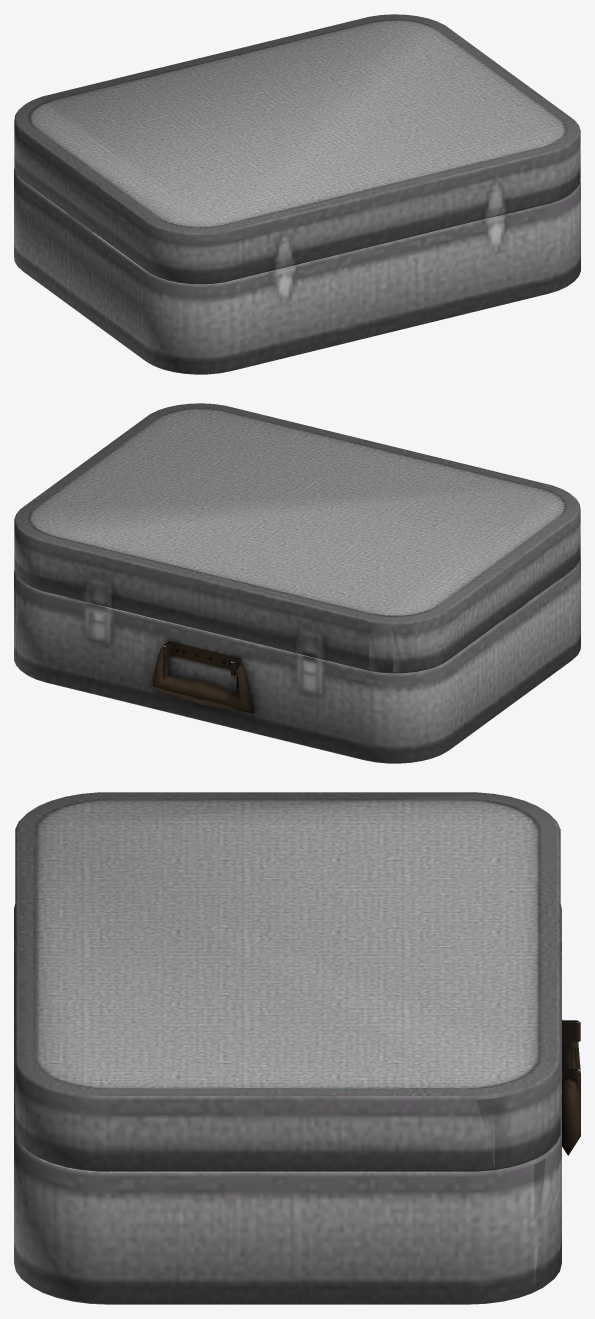
File: suitcaseclosed.obj
The picture shows the model from 3 angles, top to bottom: view 1: azimuth 30°, elevation 25°; view 2: azimuth 150°, elevation 25°; view 3: azimuth 270°, elevation 25°; orthographic projection. The views are drawn at different scales.
Parts seen in each view (by area): view 1: suitcaseclosed; view 2: suitcaseclosed; view 3: suitcaseclosed.
Part boxes in pixels (x1,y1,x2,y2): suitcaseclosed: (14,14,580,374); suitcaseclosed: (14,403,580,763); suitcaseclosed: (14,792,580,1304).
Size of the model in its own units: 130 by 40.94 by 101.
1 material, 1 textured.
